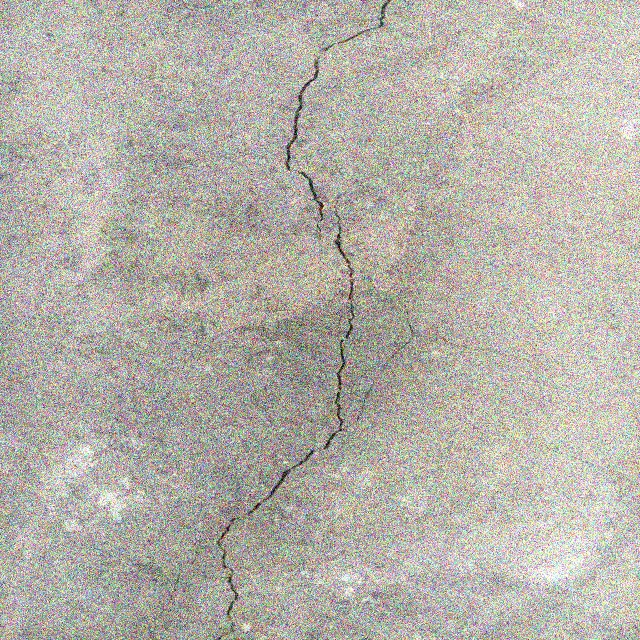SurfaceCrack: (181, 1, 415, 640)
